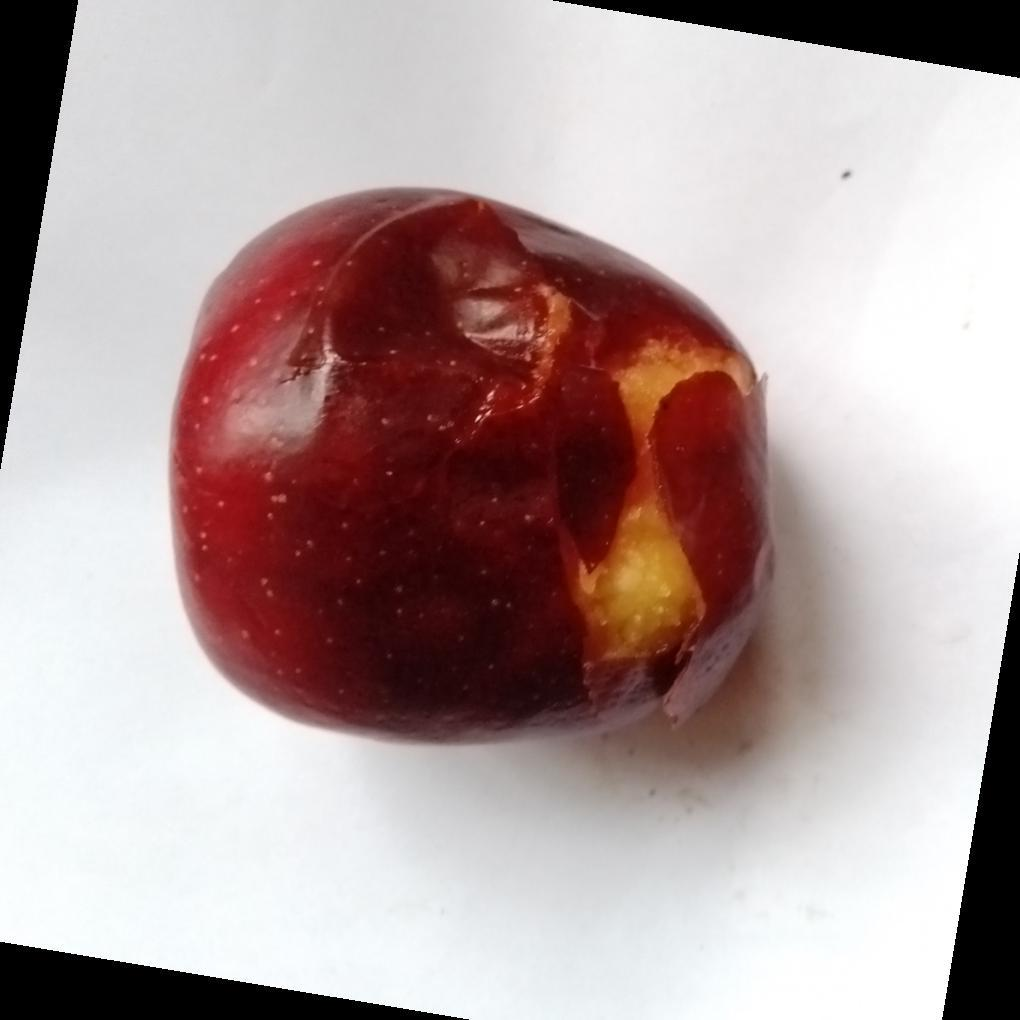FreshOrange: (168, 188, 774, 750)
